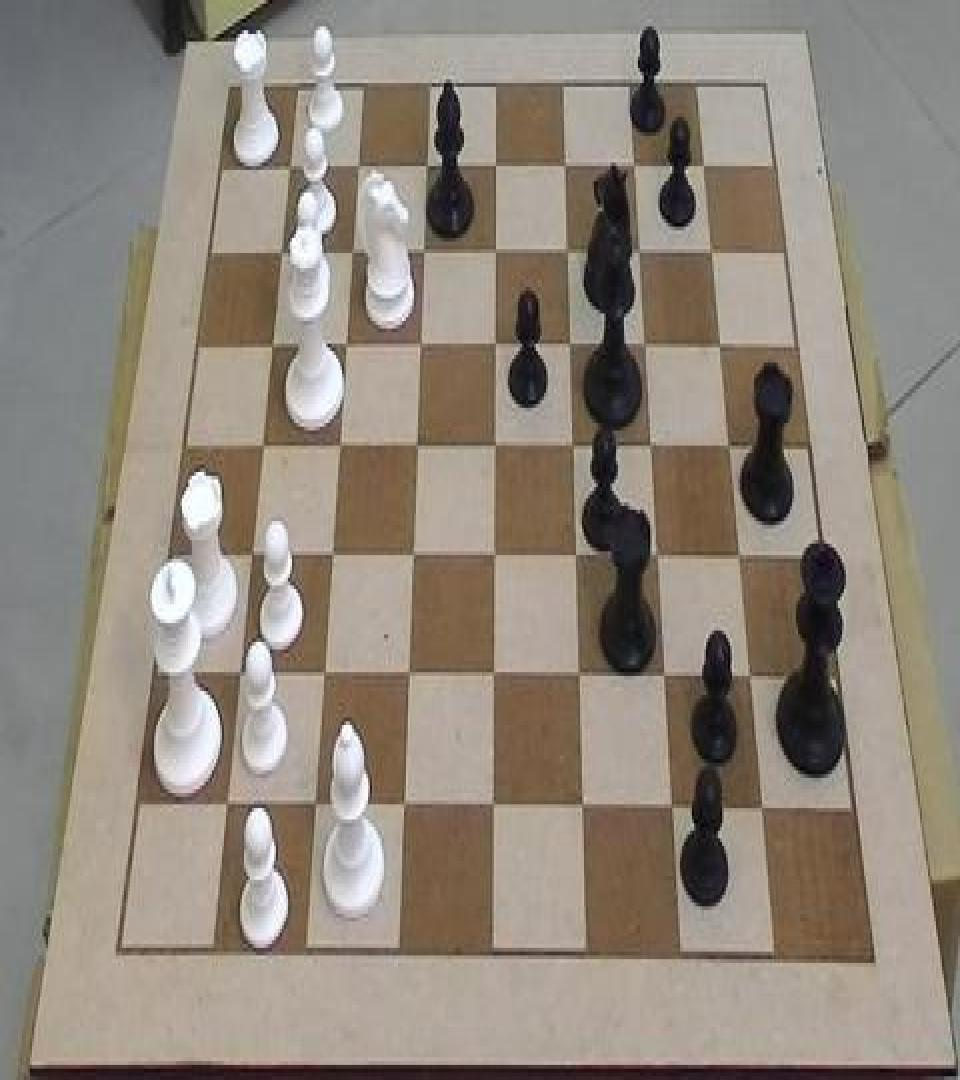xcorner: (695, 146, 715, 184), (625, 146, 645, 184), (556, 146, 576, 184), (486, 146, 506, 184), (417, 146, 437, 184), (347, 146, 367, 184), (278, 144, 298, 182), (703, 232, 723, 270), (631, 232, 651, 270), (558, 232, 578, 270), (486, 232, 506, 270), (414, 230, 434, 268), (342, 230, 362, 268), (270, 230, 290, 268), (712, 326, 732, 364), (636, 324, 656, 362), (561, 324, 581, 362), (486, 324, 506, 362), (410, 324, 430, 362), (336, 324, 356, 362), (261, 324, 281, 362), (721, 426, 741, 464), (642, 426, 662, 464), (564, 426, 584, 464), (485, 426, 505, 464), (407, 426, 427, 464), (329, 424, 349, 462), (251, 424, 271, 462), (731, 538, 751, 576), (649, 538, 669, 576), (567, 538, 587, 576), (485, 536, 505, 574), (403, 536, 423, 574), (322, 536, 342, 574), (240, 536, 260, 574), (742, 659, 762, 697), (656, 659, 676, 697), (570, 659, 590, 697), (485, 657, 505, 695), (399, 657, 419, 695), (314, 655, 334, 693), (229, 655, 249, 693), (754, 793, 774, 831), (664, 791, 684, 829), (574, 791, 594, 829), (484, 789, 504, 827), (395, 789, 415, 827), (305, 787, 325, 825), (216, 787, 236, 825)
